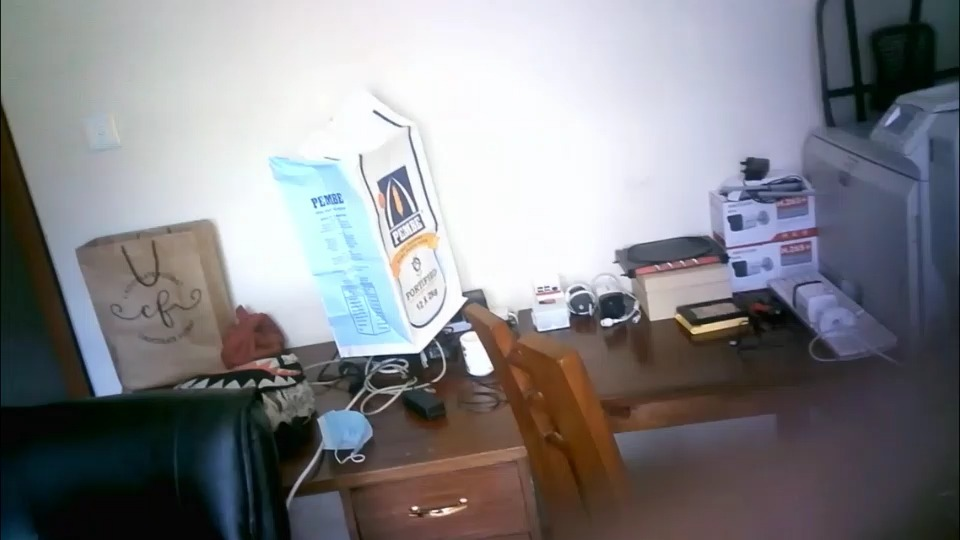wheat_flour_blue_label: (268, 95, 464, 355)
